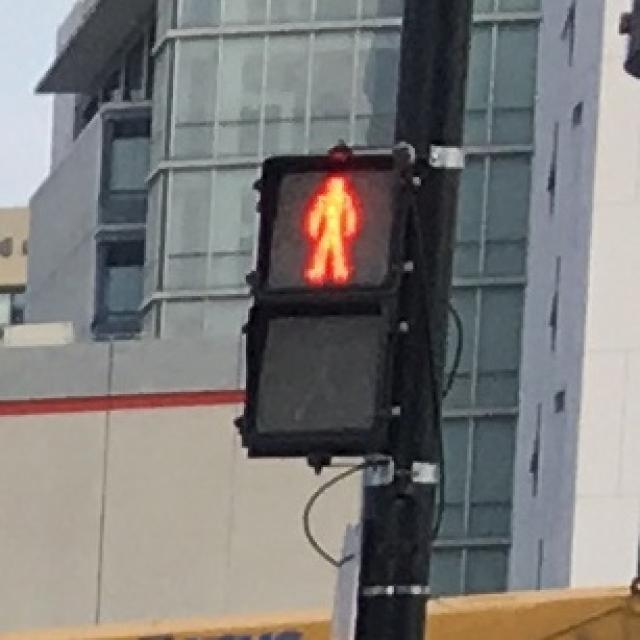red-crossing: (273, 166, 388, 288)
